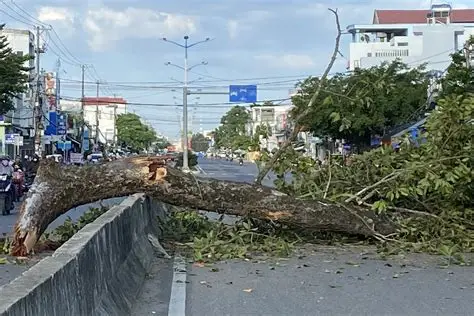ROAD_OBSTACLE: (10, 60, 474, 260)
